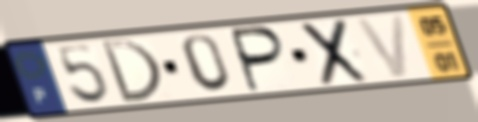0: (179, 33, 233, 95)
5: (53, 42, 114, 106)
D: (97, 38, 165, 105)
P: (229, 24, 289, 95)
V: (352, 13, 412, 81)
X: (298, 16, 371, 89)
